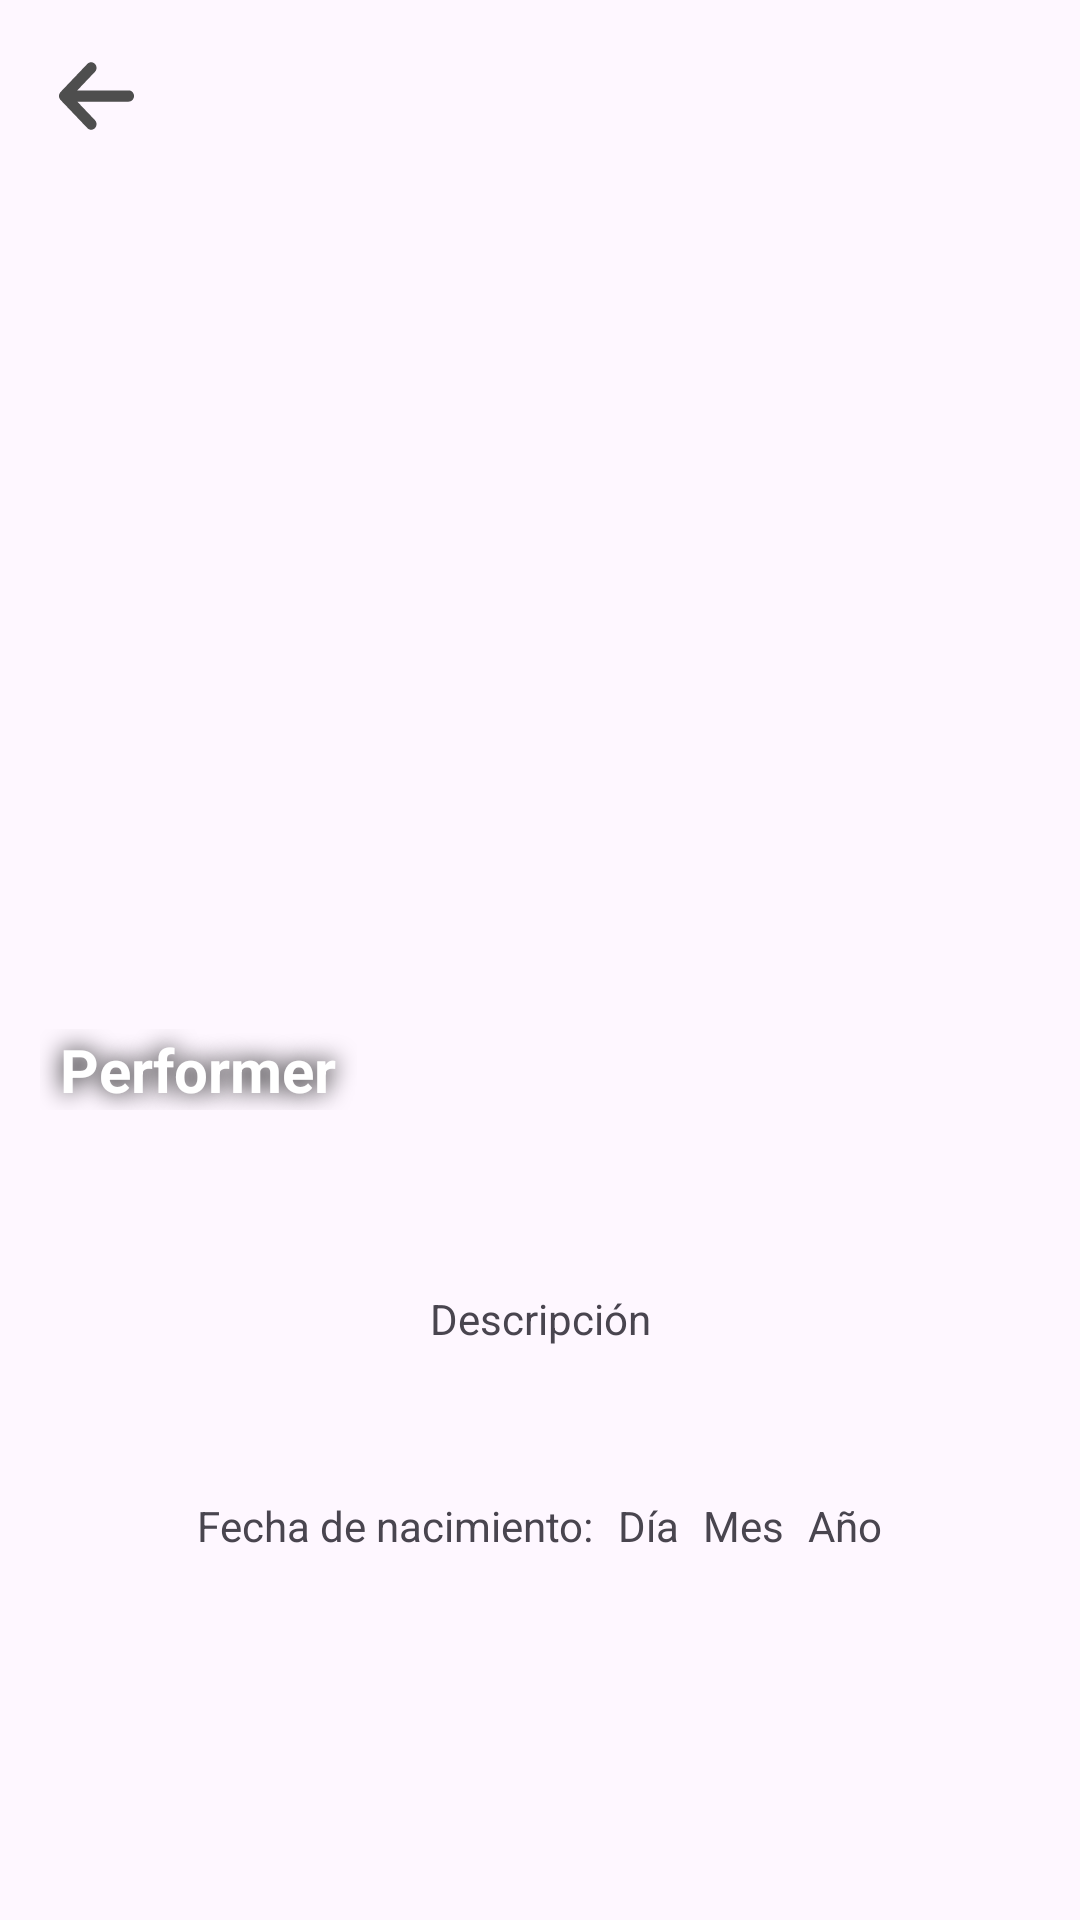

Named icons in this screenshot (1080 × 1920) and their bounding boxes, (x1, y1, x2, y2):
Performer detail back button: (59, 62, 134, 130)
